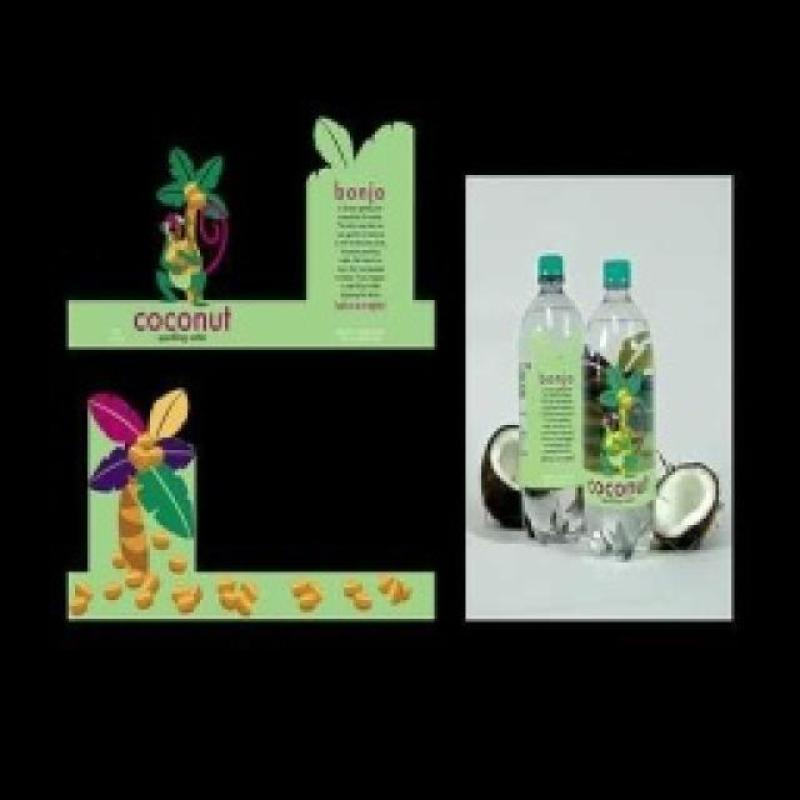botella: (583, 254, 655, 558), (520, 258, 582, 540)
